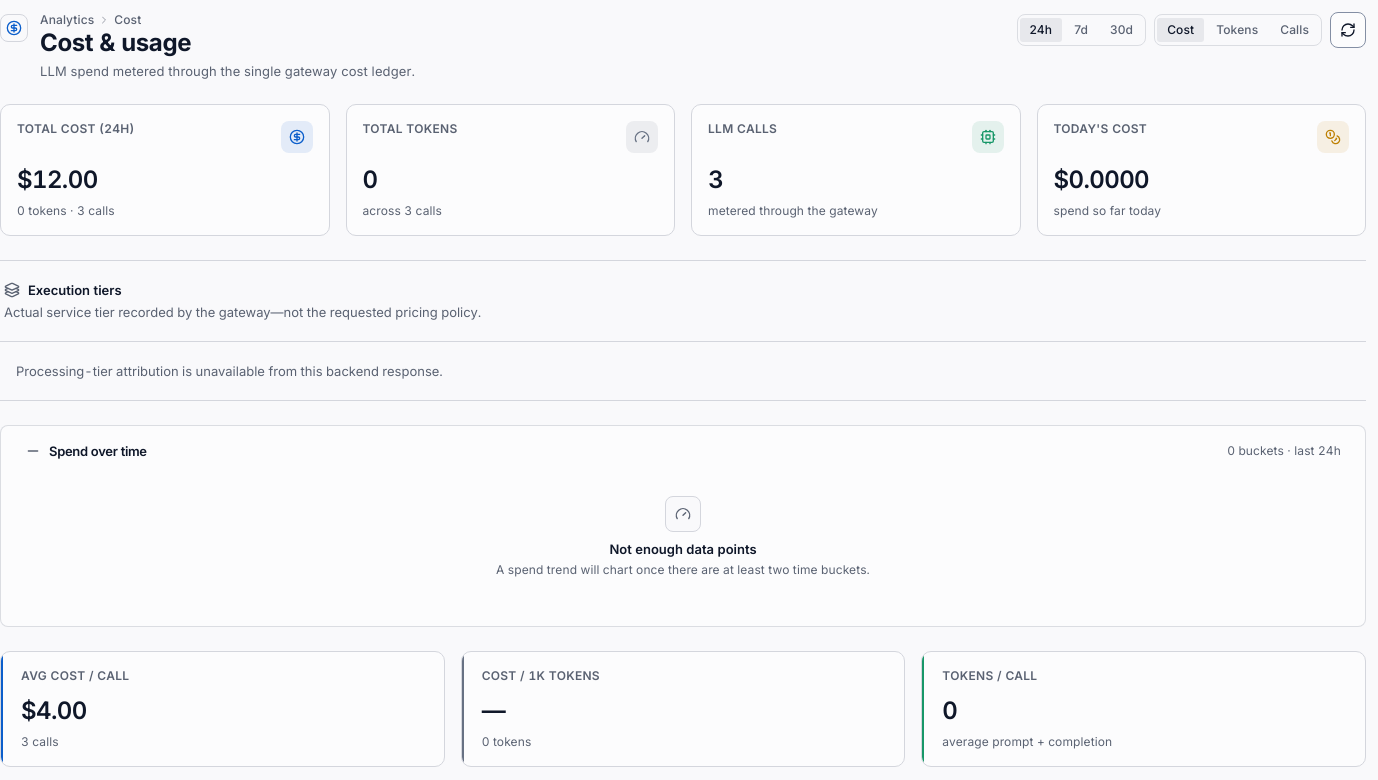
Test: Cost window-switch race › keeps resolved cost data mounted during a manual refresh
Expected: the text "$12.00" is shown, 17,165 -> 98,195
Click the button named "Refresh usage": (1348, 30) 1330,12 -> 1366,48
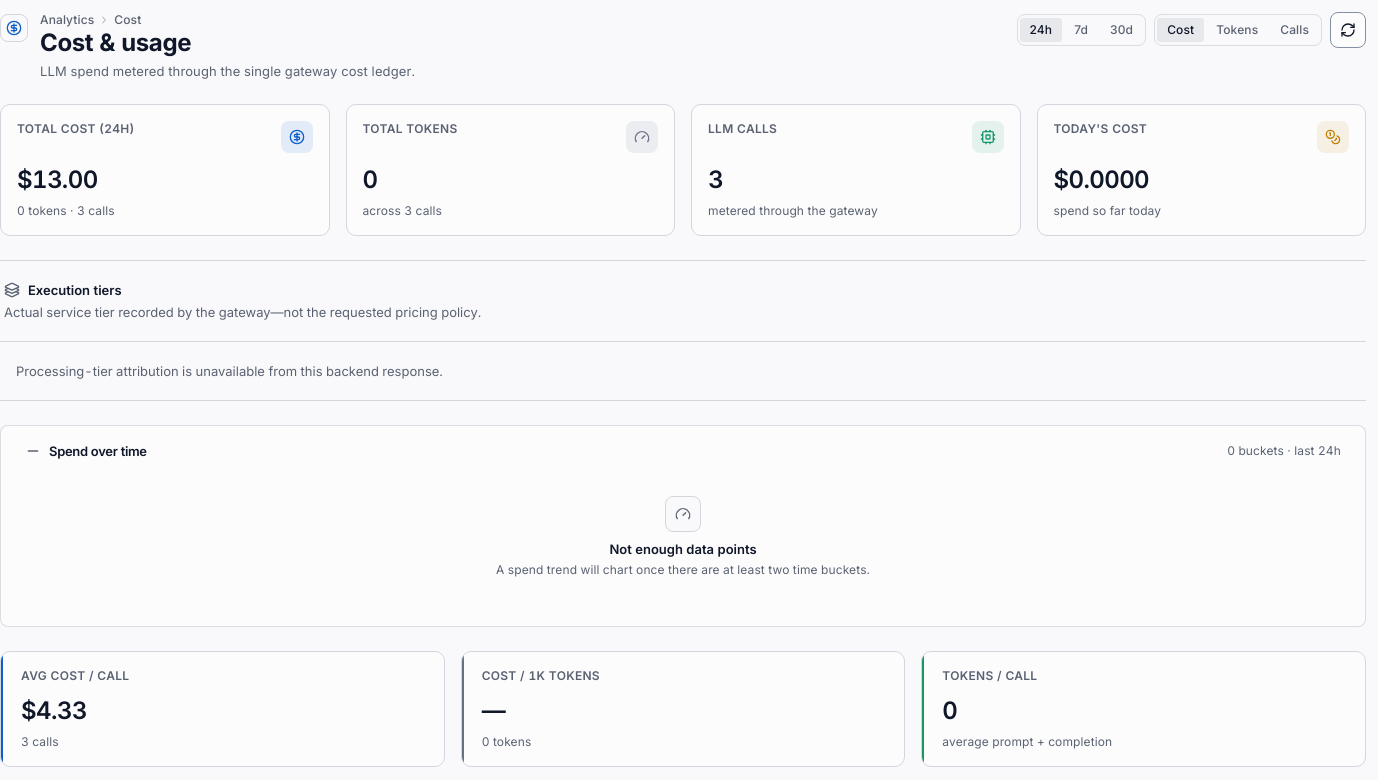
Result: the text "$13.00" is shown at 17,165 -> 98,195
